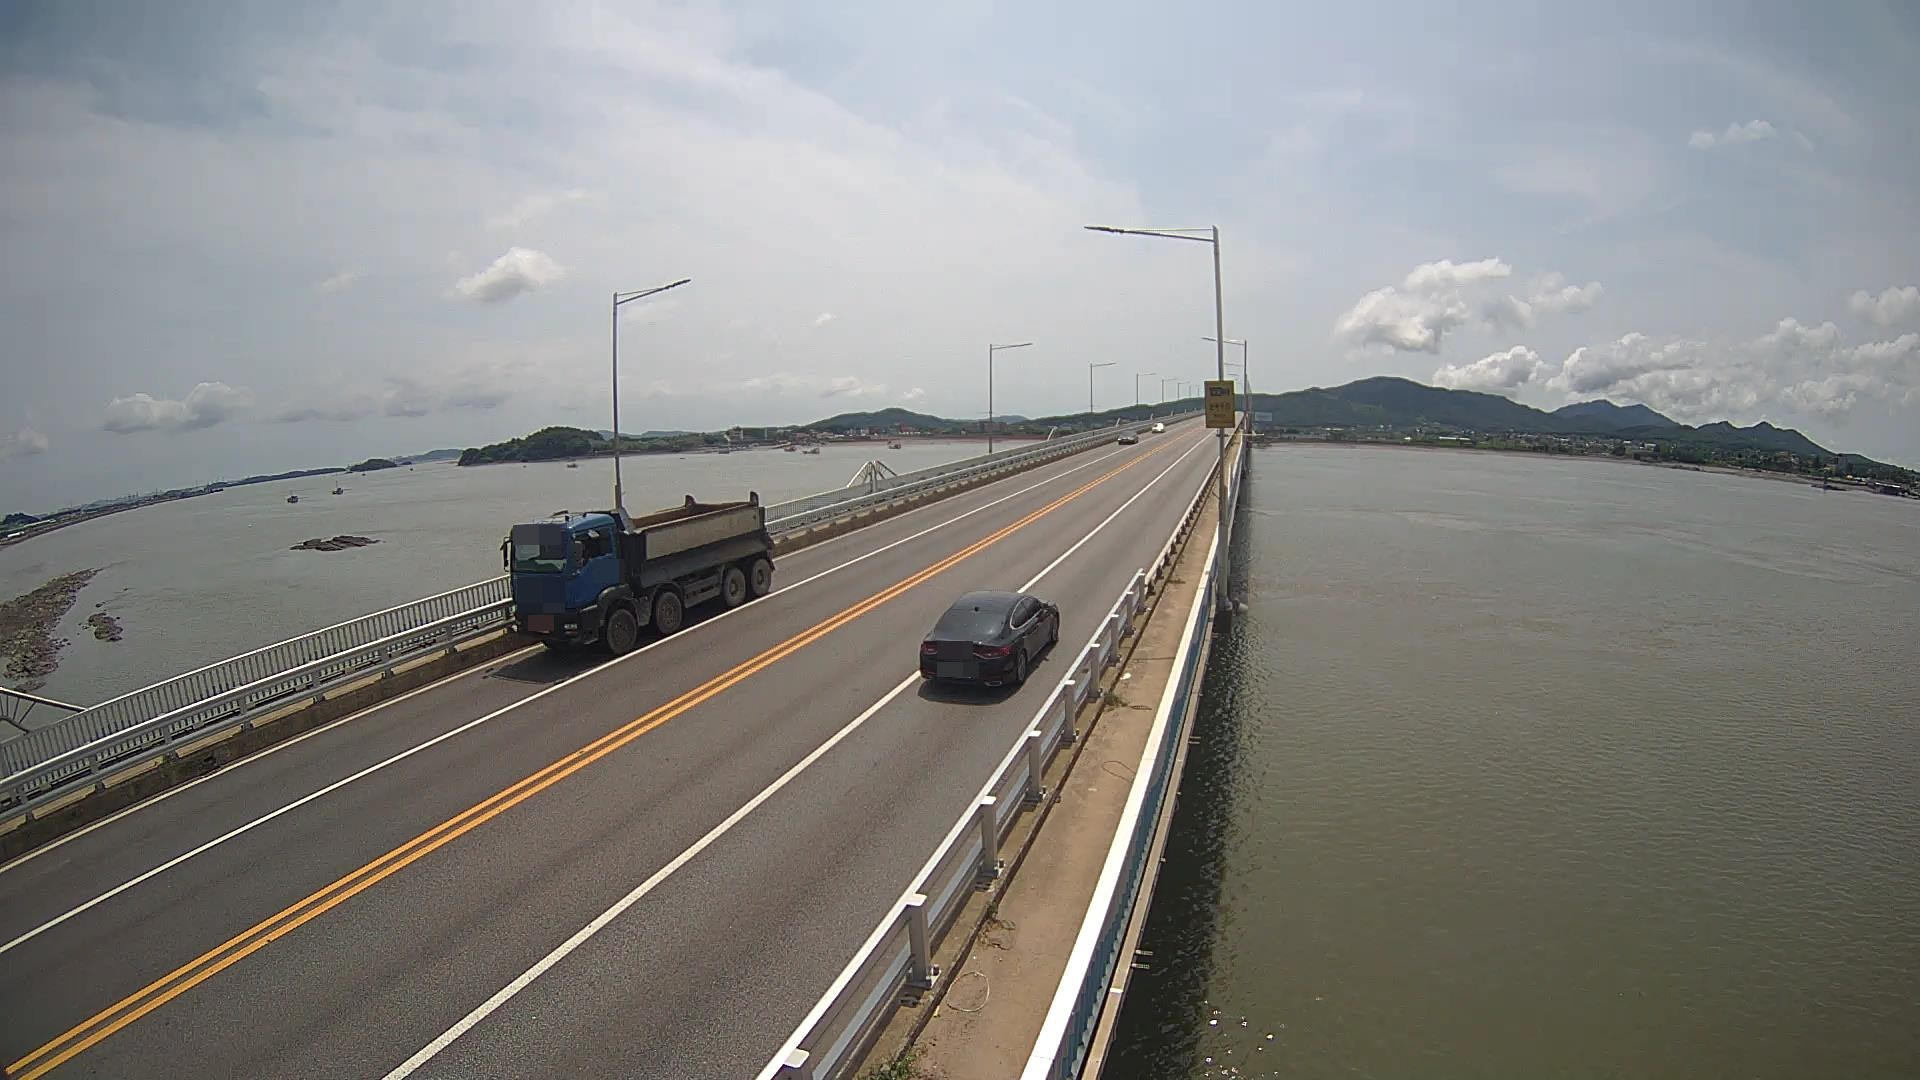정상차량: (500, 491, 775, 655)
